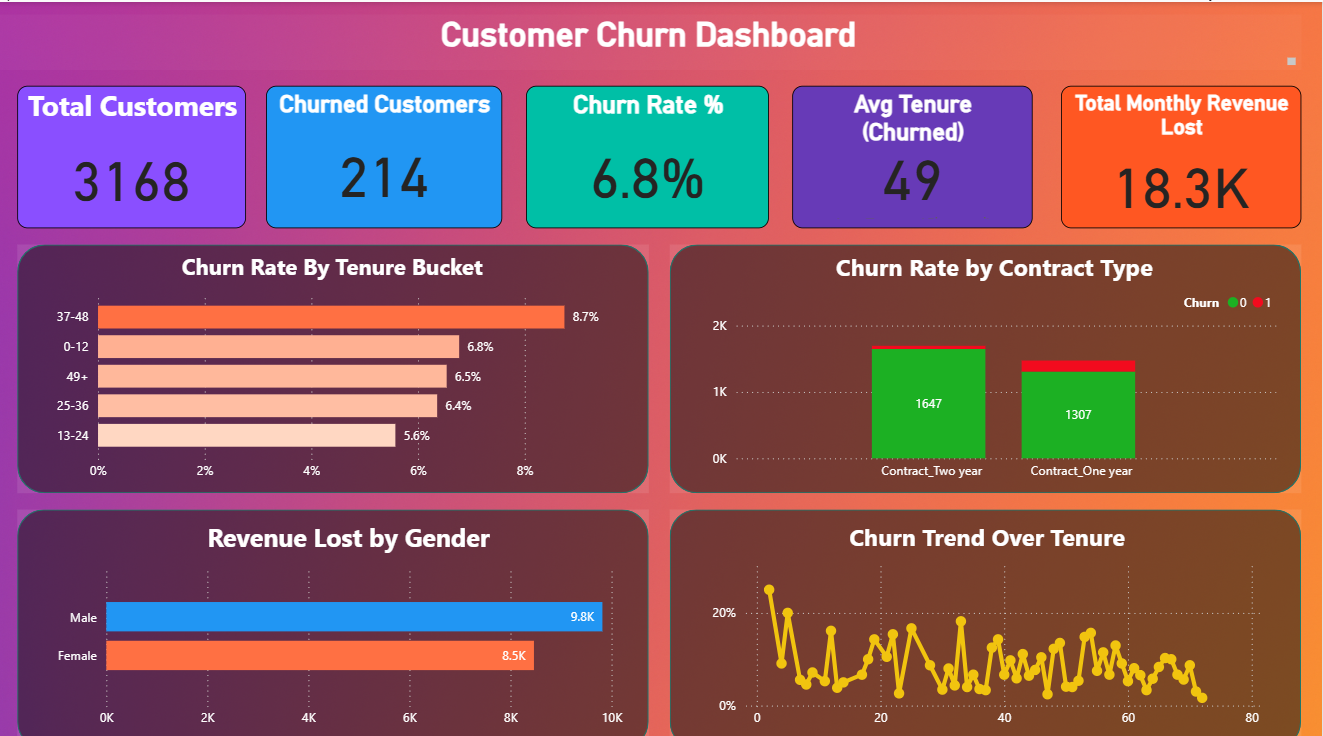

Layout of this report page (visuals, bound fields, positions):
{"tool":"powerbi","page":{"name":"Page 1","canvas":[1280,720],"ordinal":0},"visuals":[{"type":"textbox","title":"Customer Churn Dashboard","box":[0,12.3,1259.7,53.5],"z":0},{"type":"card","title":"Total Customers","fields":{"Values":["churn_cleaned.Total Customers"]},"box":[20.6,81,220.9,137.2],"z":1000},{"type":"card","title":"Churned Customers","fields":{"Values":["churn_cleaned.Churned Customers"]},"box":[260.7,81,227.8,137.2],"z":2000},{"type":"card","title":"Churn Rate %","fields":{"Values":["churn_cleaned.Churn Rate %"]},"box":[511.8,81,234.6,137.2],"z":3000},{"type":"card","title":"Avg Tenure (Churned)","fields":{"Values":["churn_cleaned.Avg Tenure (Churned)"]},"box":[768.4,81,231.9,137.2],"z":4000},{"type":"card","title":"Total Monthly Revenue Lost","fields":{"Values":["churn_cleaned.Total Monthly Revenue Lost"]},"box":[1027.8,81,231.9,137.2],"z":5000},{"type":"shape","box":[20.6,234.6,609.3,240.1],"z":6000},{"type":"shape","box":[650.4,234.6,609.3,240.1],"z":7000},{"type":"clusteredBarChart","title":"Churn Rate By Tenure Bucket","fields":{"Y":["churn_cleaned.Churn Rate %"],"Category":["churn_cleaned.TenureBucket"]},"box":[50.8,240.1,547.5,230.5],"z":8000},{"type":"shape","box":[20.6,489.9,609.3,230.5],"z":9000},{"type":"shape","box":[650.4,489.9,609.3,230.5],"z":10000},{"type":"columnChart","title":"Churn Rate by Contract Type","fields":{"Category":["churn_cleaned.Contract"],"Y":["churn_cleaned.Total Customers"],"Series":["churn_cleaned.Churn"]},"box":[686.1,240.1,554.4,230.5],"z":11000},{"type":"clusteredBarChart","title":"Revenue Lost by Gender","fields":{"Category":["churn_cleaned.gender"],"Y":["churn_cleaned.Total Monthly Revenue Lost"]},"box":[50.8,500.9,579.1,208.6],"z":12000},{"type":"lineChart","title":"Churn Trend Over Tenure","fields":{"Category":["churn_cleaned.tenure"],"Y":["churn_cleaned.Churn Rate %"]},"box":[686.1,500.9,540.7,208.6],"z":12001}]}

Visuals, with their boxes in screenshot pixels (x1, y1, x2, y2), scaled from the page's 1280x720 canvas onto the 1323x736 screenshot:
"Customer Churn Dashboard" textbox: detection(0, 13, 1302, 67)
"Total Customers" card: detection(21, 83, 250, 223)
"Churned Customers" card: detection(269, 83, 505, 223)
"Churn Rate %" card: detection(529, 83, 771, 223)
"Avg Tenure (Churned)" card: detection(794, 83, 1034, 223)
"Total Monthly Revenue Lost" card: detection(1062, 83, 1302, 223)
shape: detection(21, 240, 651, 485)
shape: detection(672, 240, 1302, 485)
"Churn Rate By Tenure Bucket" clusteredBarChart: detection(53, 245, 618, 481)
shape: detection(21, 501, 651, 735)
shape: detection(672, 501, 1302, 735)
"Churn Rate by Contract Type" columnChart: detection(709, 245, 1282, 481)
"Revenue Lost by Gender" clusteredBarChart: detection(53, 512, 651, 725)
"Churn Trend Over Tenure" lineChart: detection(709, 512, 1268, 725)
